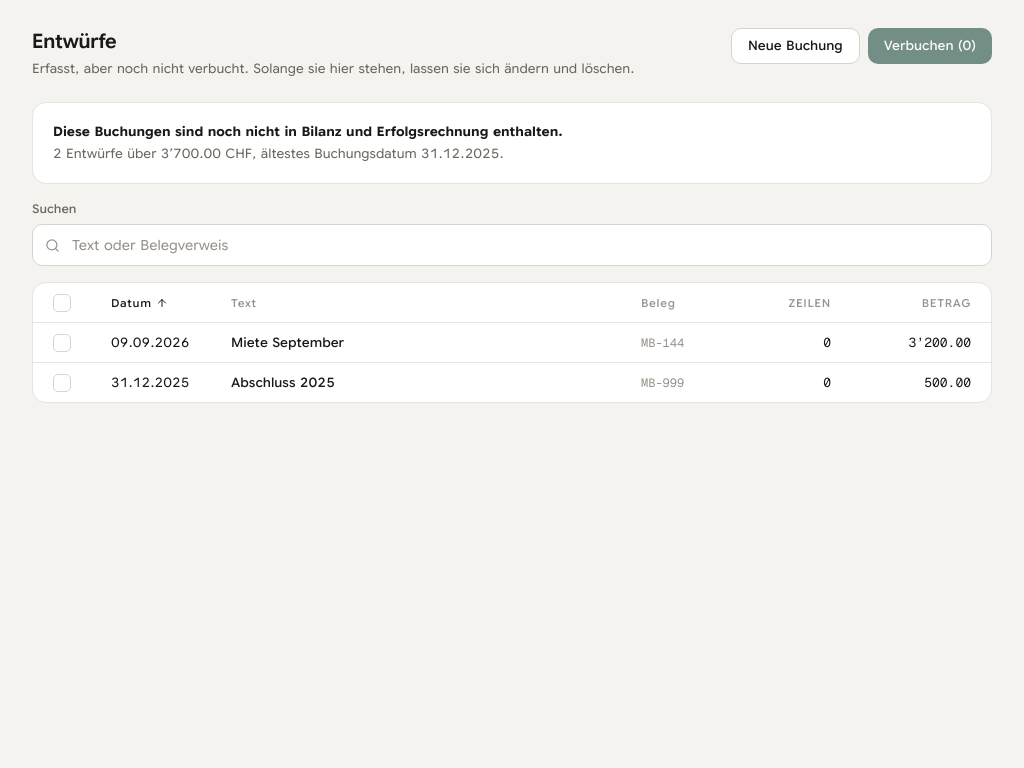
EntryDraftPage › namesNoNumberRangeInThePreviewTest
Click the checkbox next to "09.09.2026". click: [62, 343]
box: [53, 334, 71, 352]
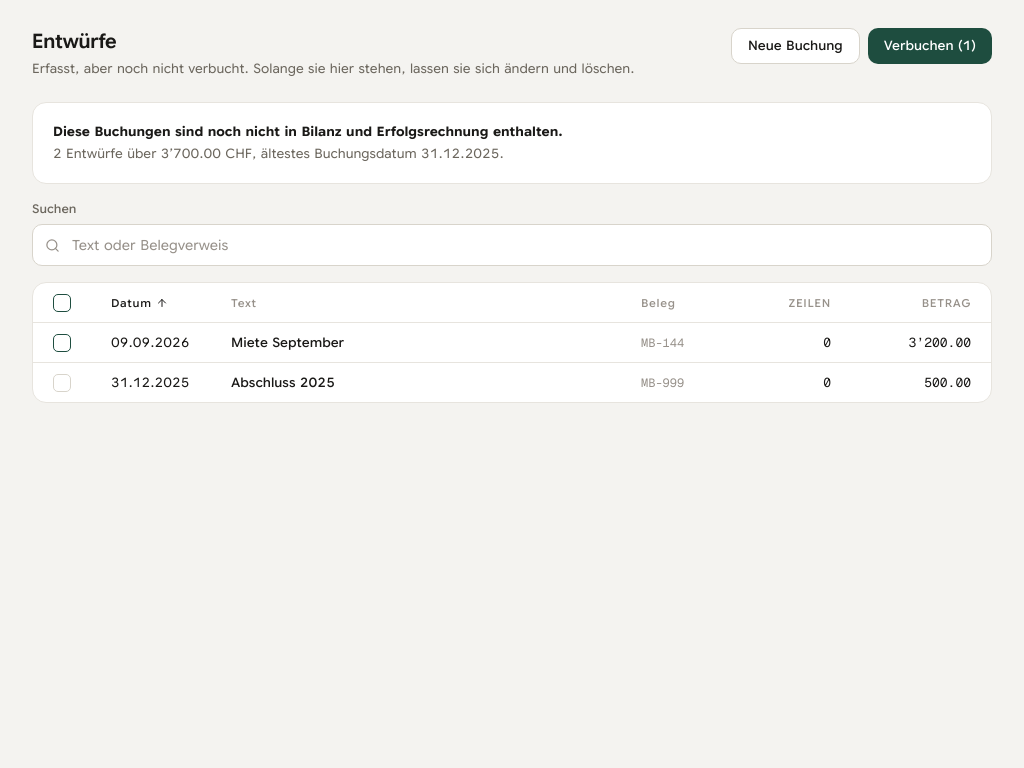
Click the button "Verbuchen (1)". click: [930, 46]
box: [868, 28, 992, 64]
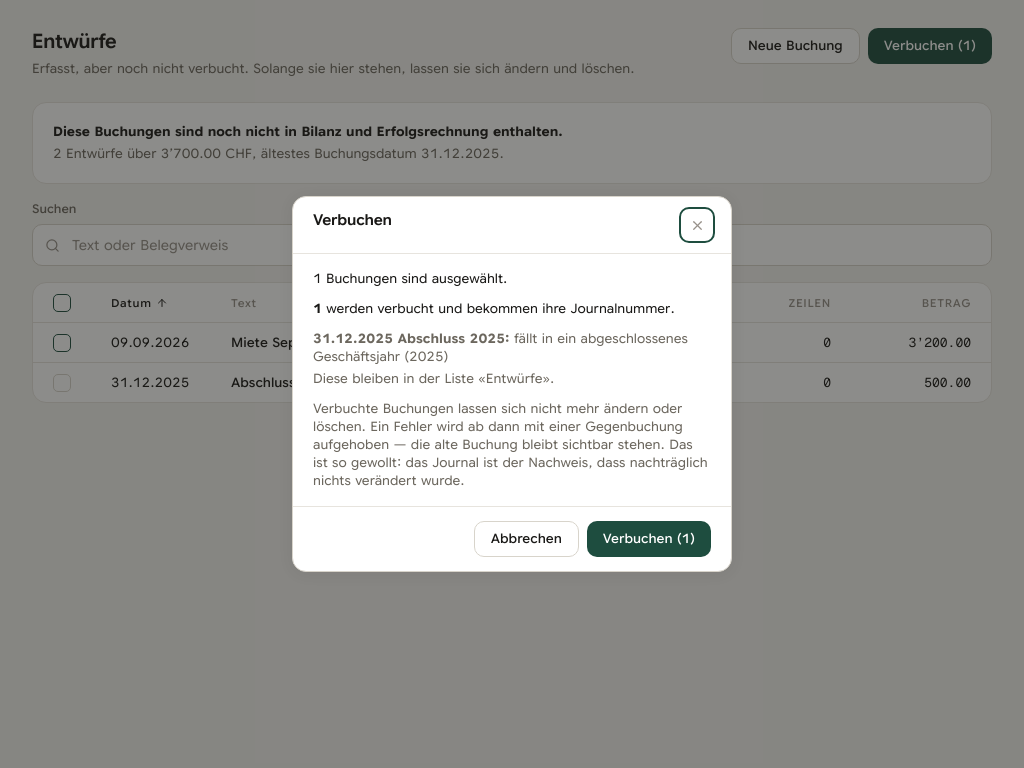
Now the text "bekommen ihre Journalnummer" is shown, box [322, 300, 675, 317]
